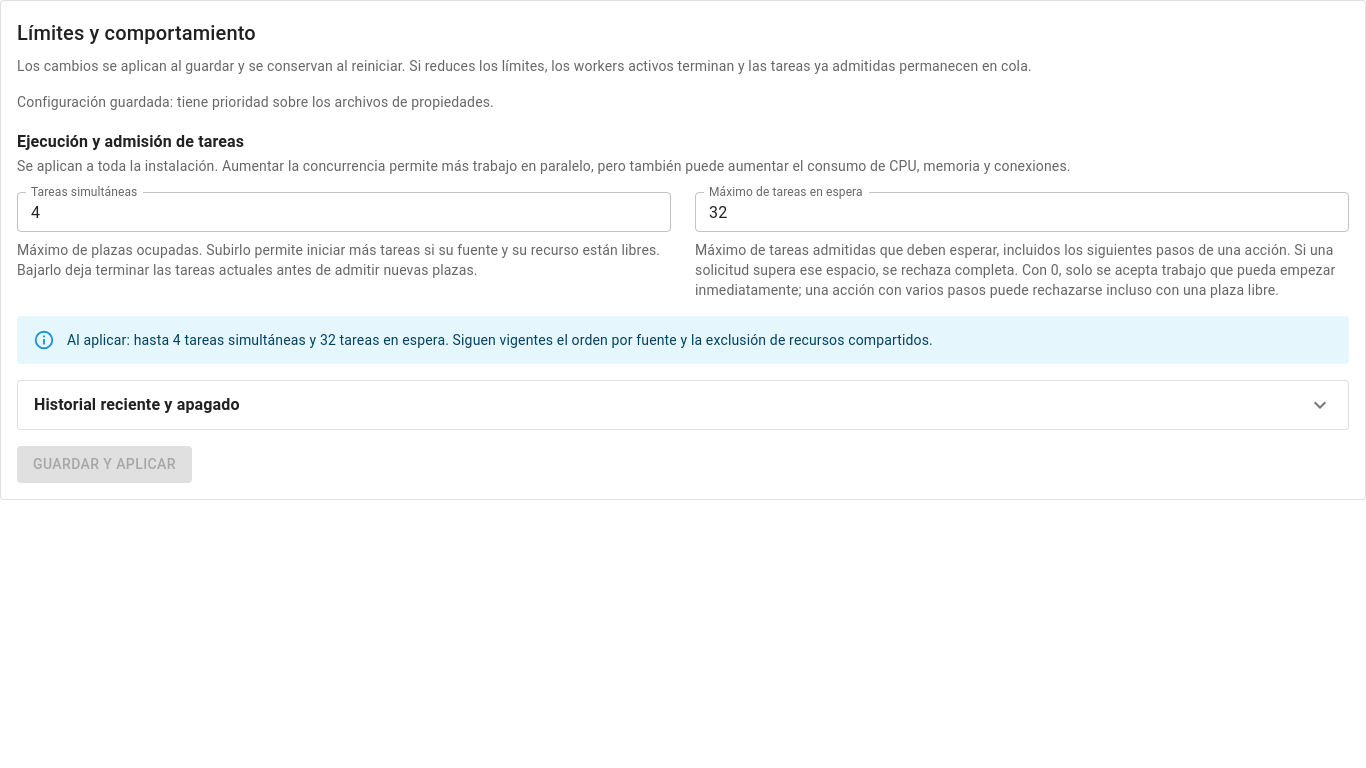
Runtime configuration effects › explains temporary retention and shutdown inside the advanced section
The image size is (1366, 768).
Click the button "Historial reciente y apagado": (137, 405) left=18, top=381, right=1348, bottom=429
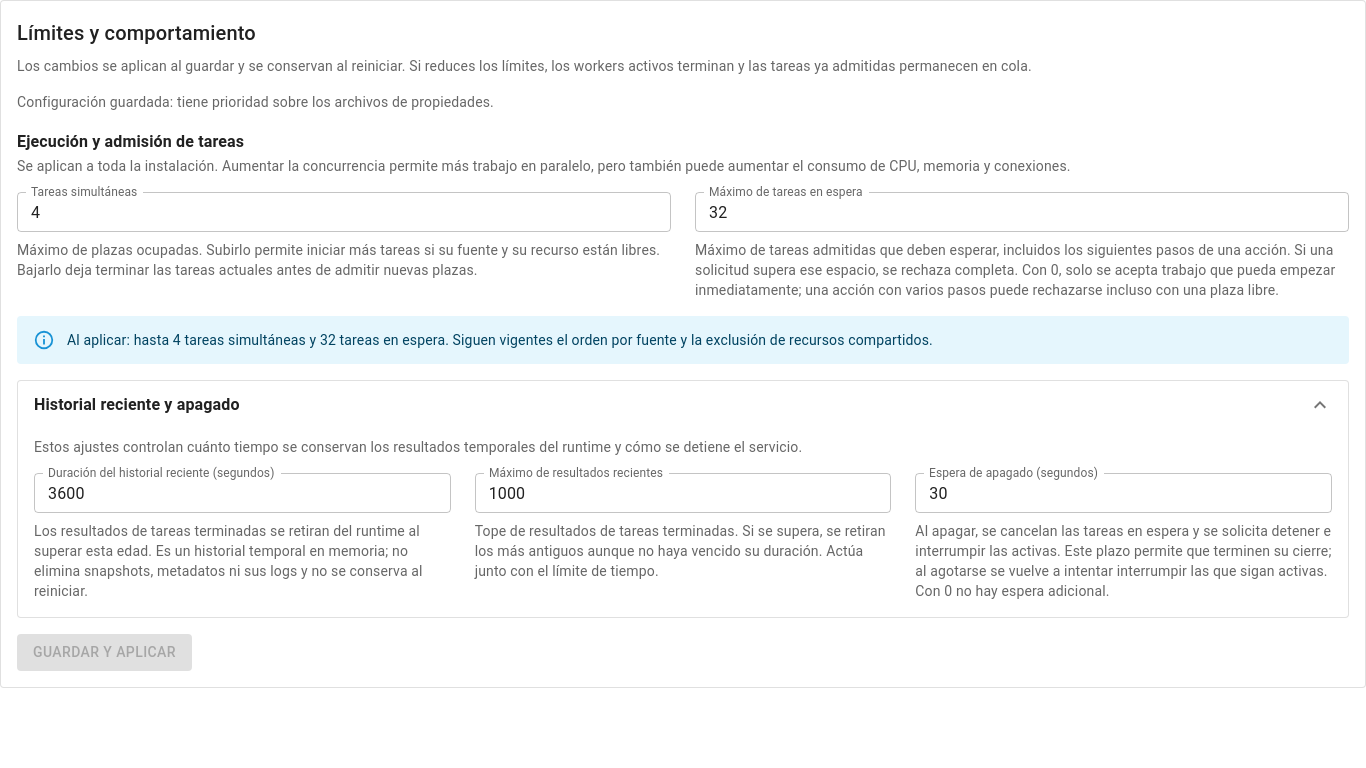
Expected: the number field labelled "Duración del historial reciente (segundos)" is shown, left=34, top=473, right=451, bottom=513
Expected: the text "no elimina snapshots, metadatos ni sus logs" is shown, left=34, top=523, right=423, bottom=599
Expected: the text "se retiran los más antiguos aunque no haya vencido" is shown, left=475, top=523, right=886, bottom=579
